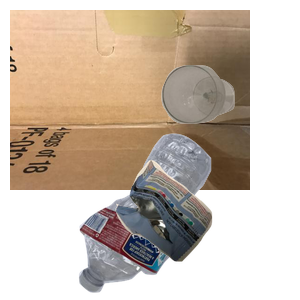cardboard: (10, 10, 250, 190)
glass: (159, 63, 300, 179)
plastic: (76, 131, 280, 300)
trash: (113, 157, 300, 300)
